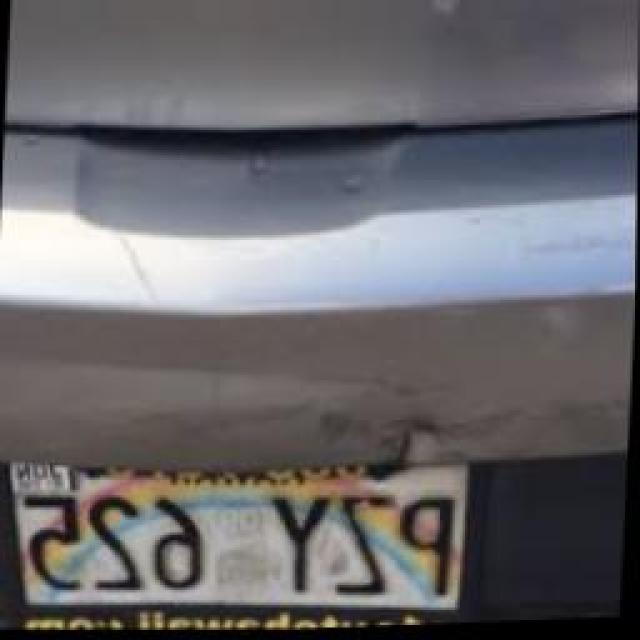Bumper: (0, 0, 640, 490)
